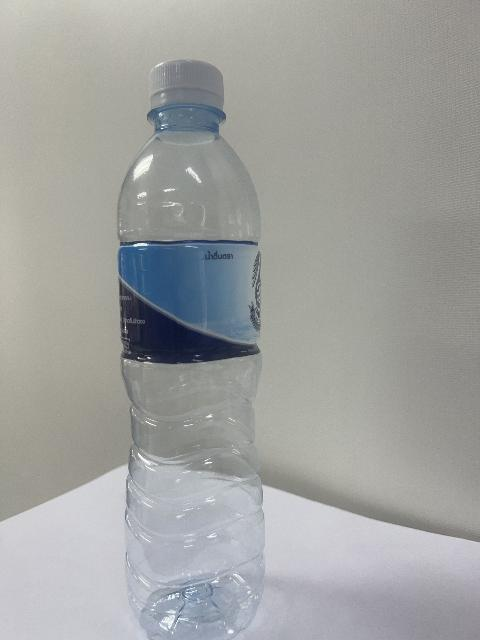bottle: (118, 60, 264, 639)
